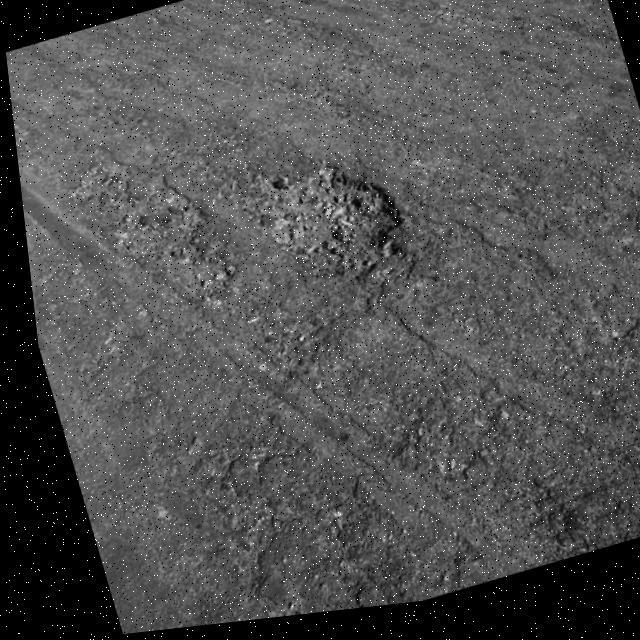pothole: (241, 142, 412, 308)
